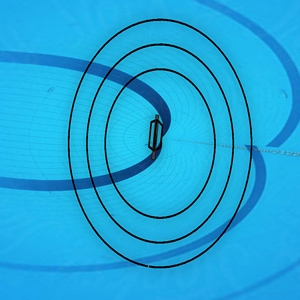circle: (68, 18, 254, 271)
submarine: (148, 112, 163, 159)
